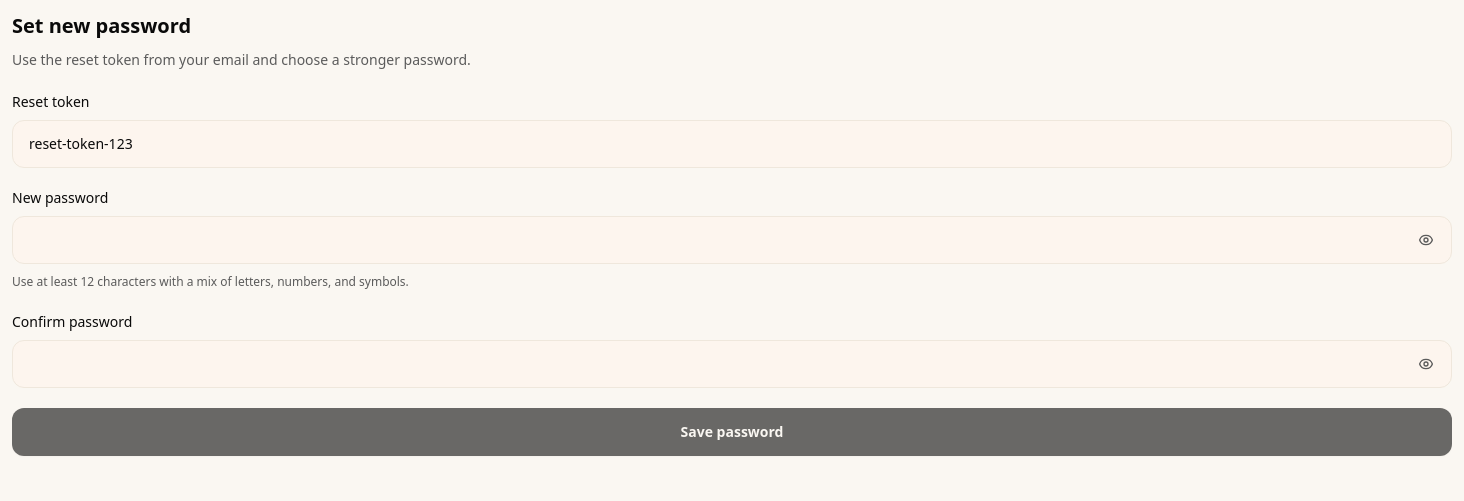
it: ResetPasswordForm › keeps the submit disabled when the confirm password does not match
The image size is (1464, 501).
Type "StrongerPass!234" into the password field labelled "New password". click: (732, 240)
box: top-left (12, 216), bottom-right (1452, 264)
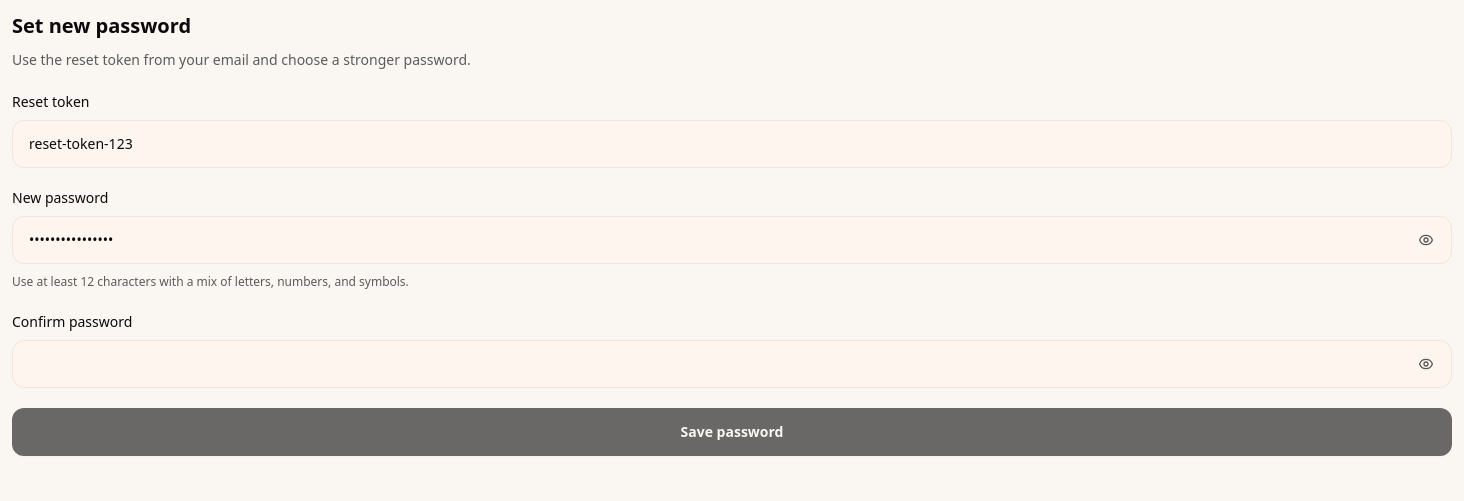
Type "DifferentPass!234" into the password field labelled "Confirm password". click: (732, 364)
box: top-left (12, 340), bottom-right (1452, 388)
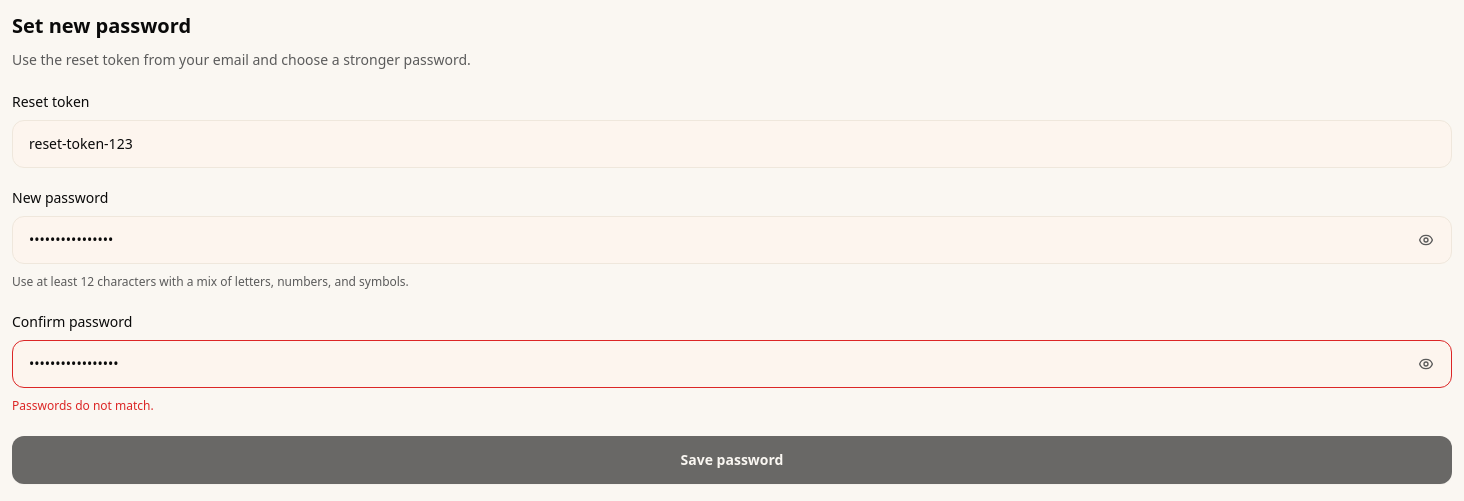
Check: the button "Save password" is disabled, box top-left (12, 436), bottom-right (1452, 484)
Check: the text "Passwords do not match." is shown, box top-left (12, 397), bottom-right (154, 414)
